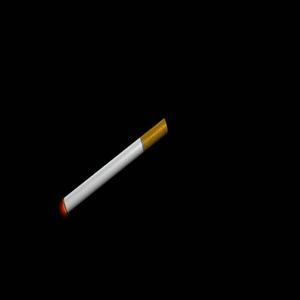cigarette: (57, 119, 172, 216)
